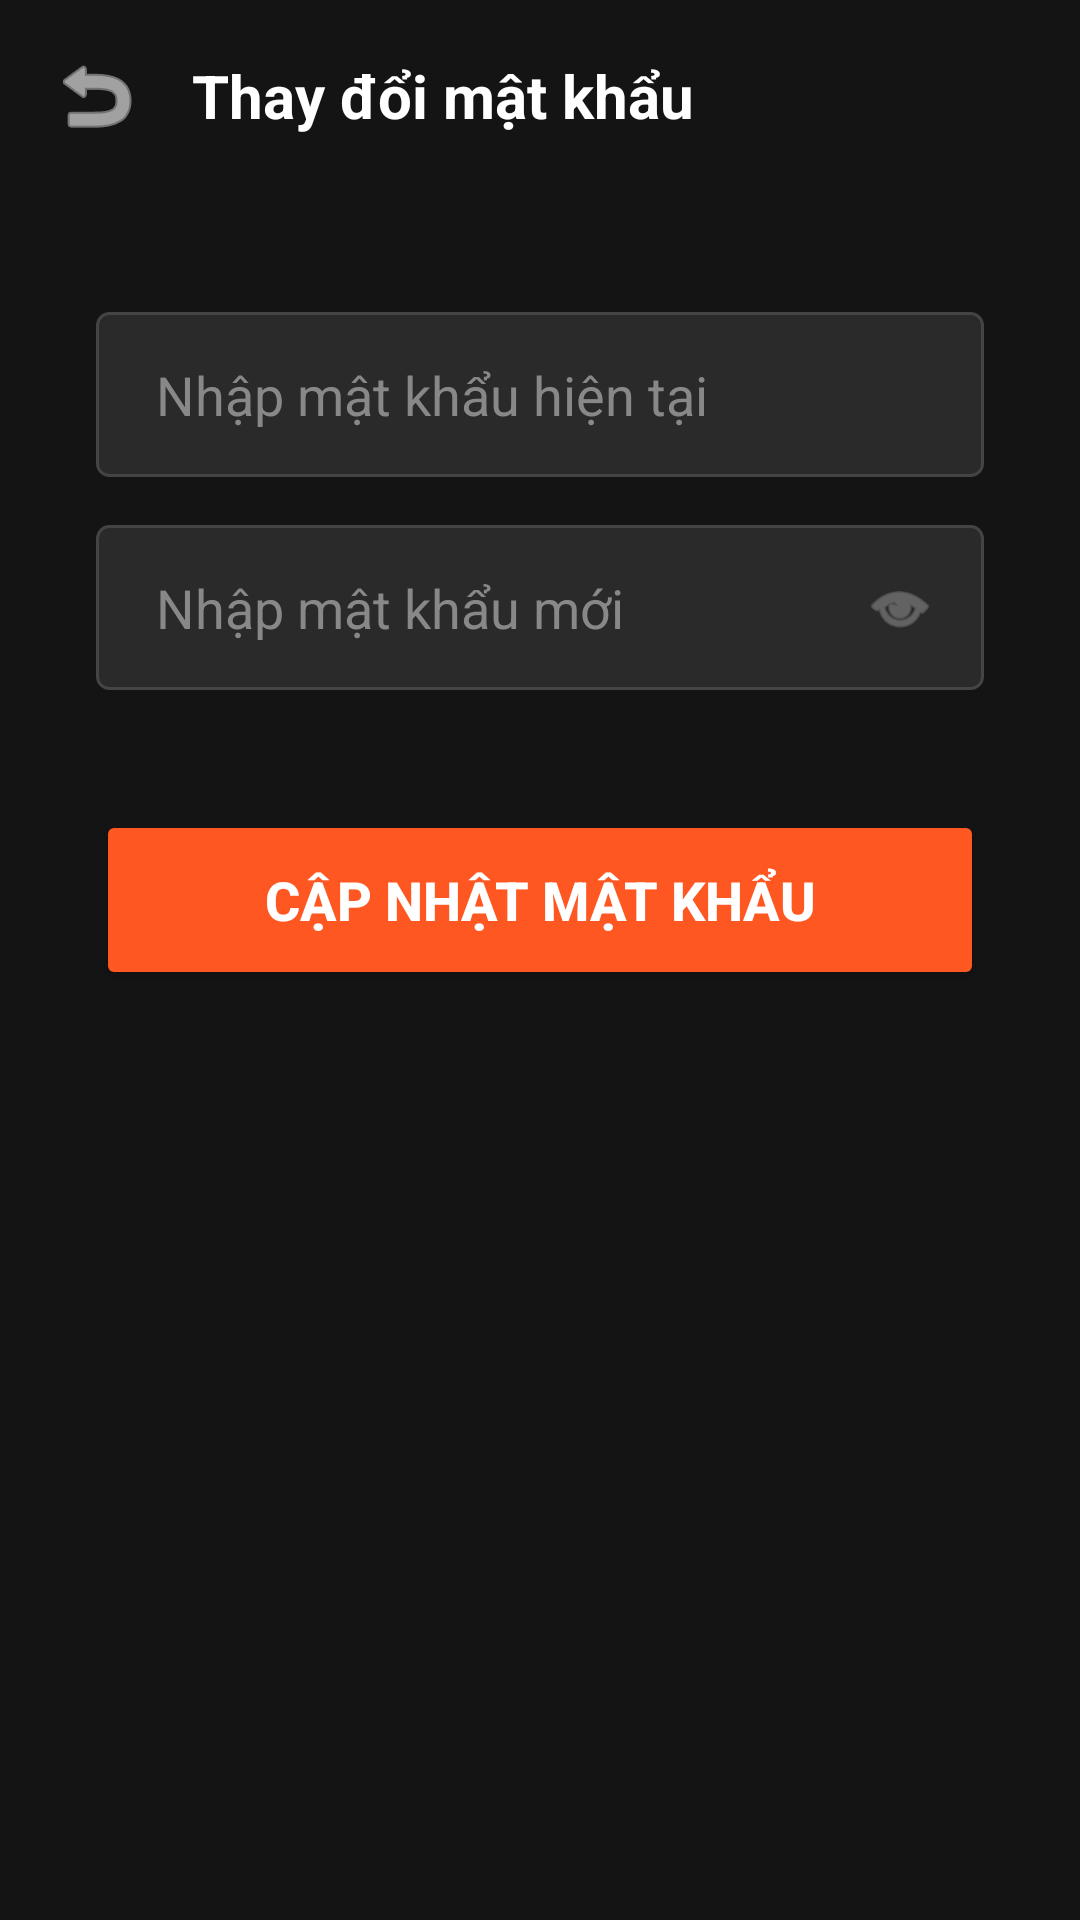

Icon bounding boxes for this 1080*1920 phone screenshot, format detection(x1, y1, x2, y2):
revert: detection(63, 65, 132, 128)
view: detection(871, 591, 929, 627)
